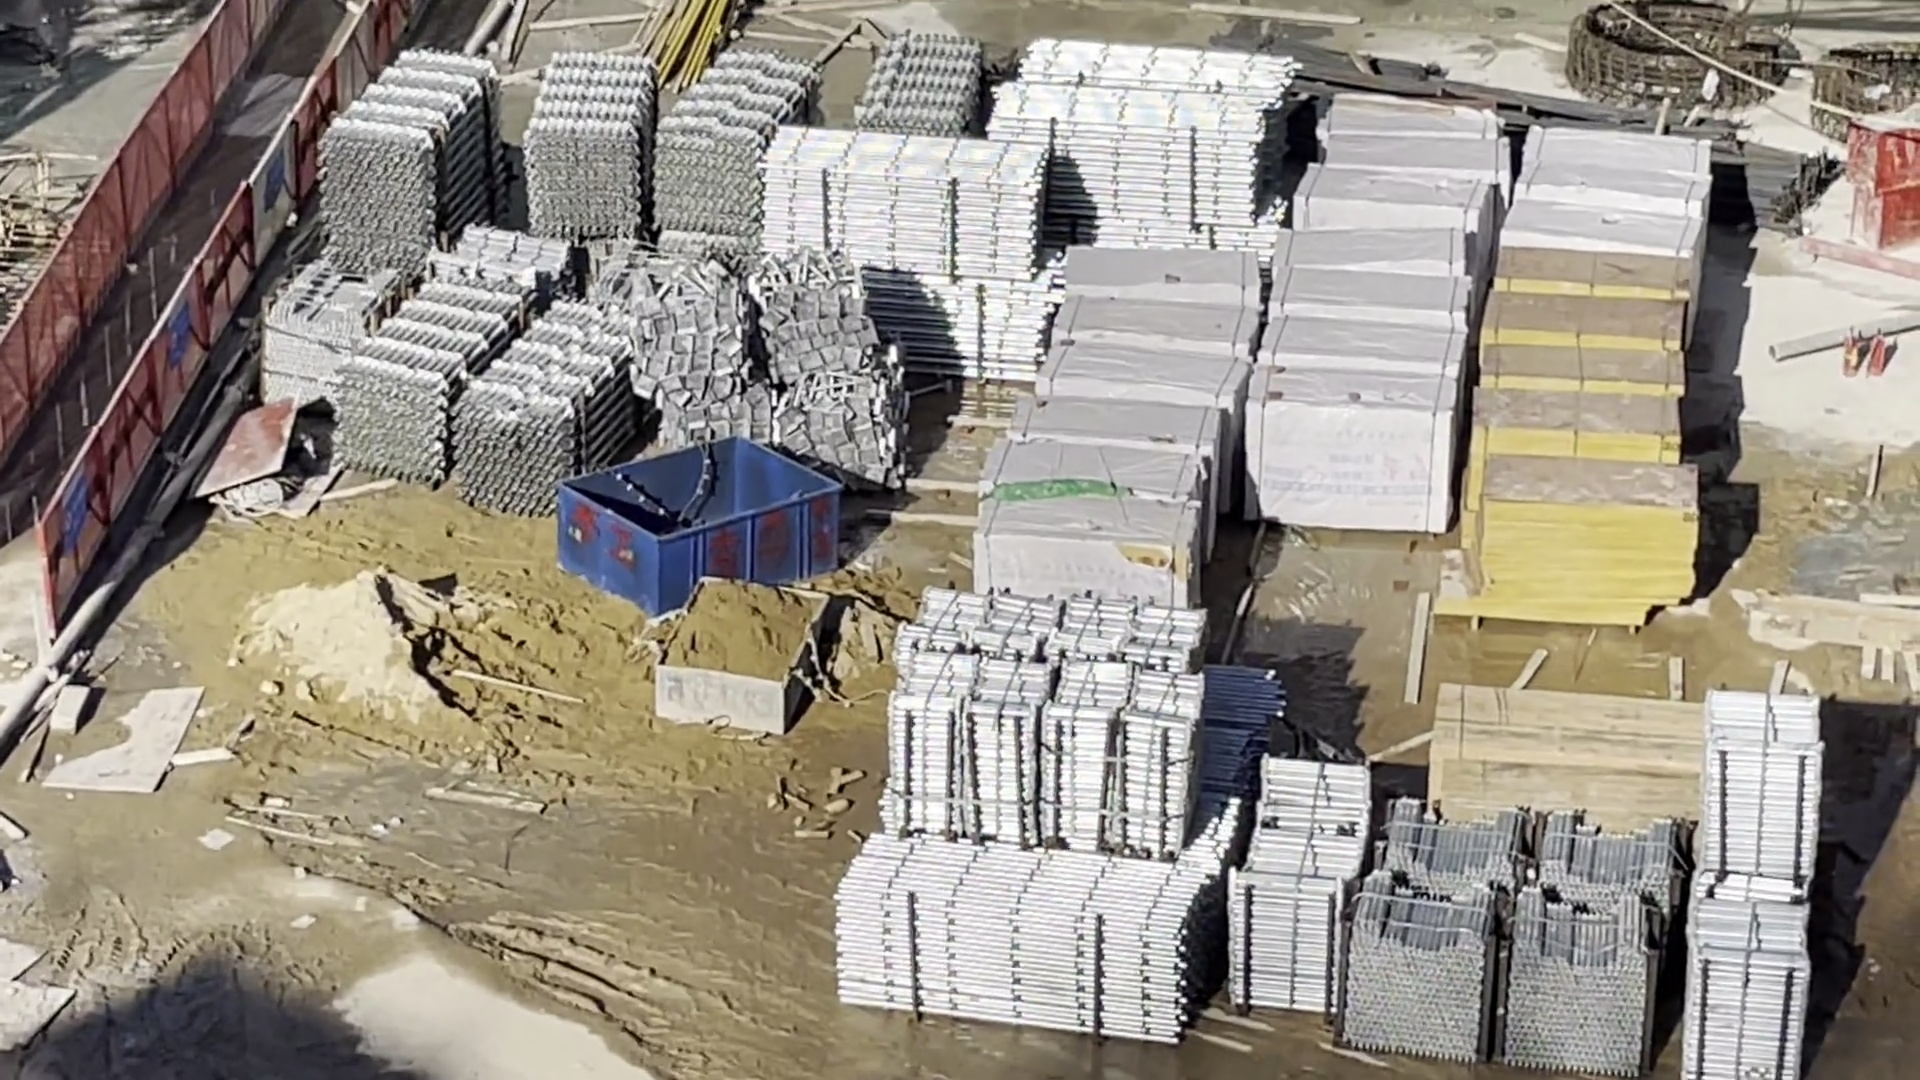board: (1481, 251, 1688, 629), (1429, 688, 1695, 824)
fence: (3, 4, 378, 579)
hopper: (556, 442, 840, 615), (651, 578, 829, 735)
rebar: (1308, 54, 1828, 233)
scaffold: (1336, 806, 1685, 1065), (884, 593, 1205, 857), (833, 833, 1213, 1043), (339, 262, 650, 512), (761, 127, 1042, 386), (989, 37, 1296, 257), (524, 46, 823, 253), (1673, 699, 1811, 1080), (319, 51, 497, 276), (1233, 756, 1366, 1011), (858, 36, 989, 131)
slogan: (164, 295, 193, 369), (59, 465, 83, 546)
